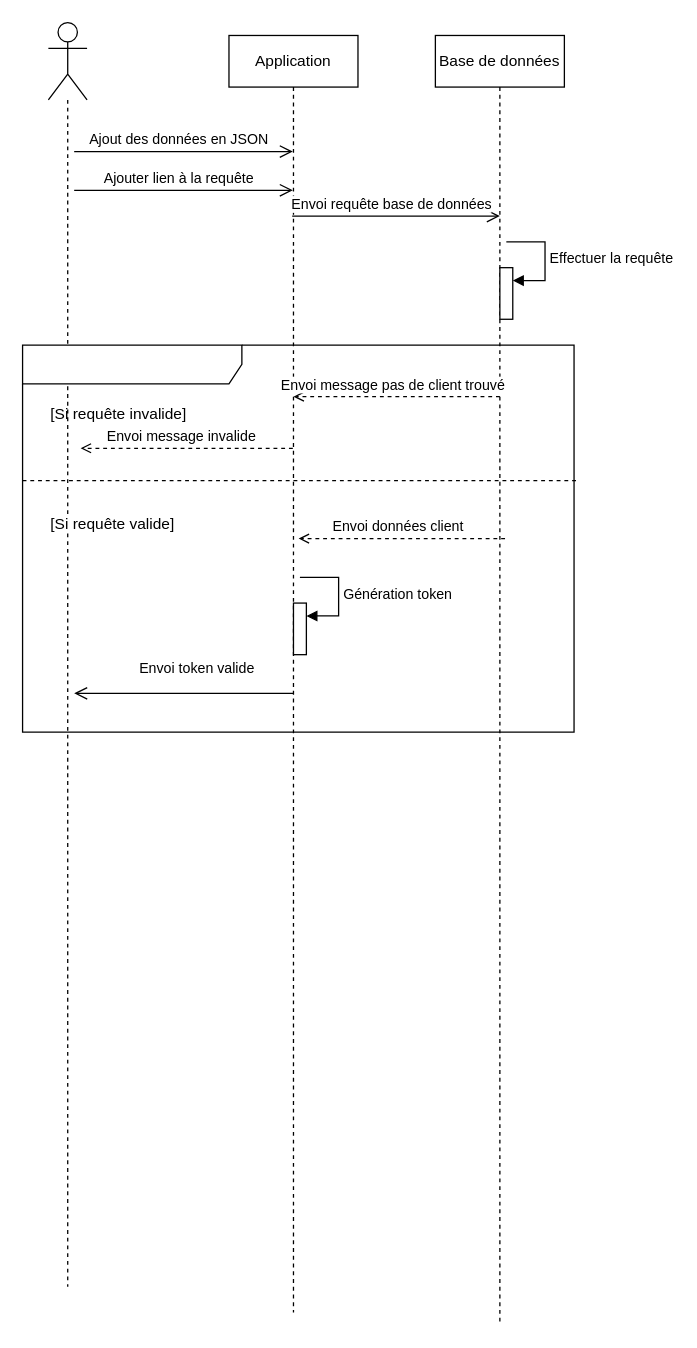
The diagram is 697 pixels wide and 1348 high, and some of its shapes have lost their labels. The shapes that lost their labels are listed below. From the top down, each one's centre as x and y in pixels, then its label:
point 67,60: Client
point 297,538: Alt
